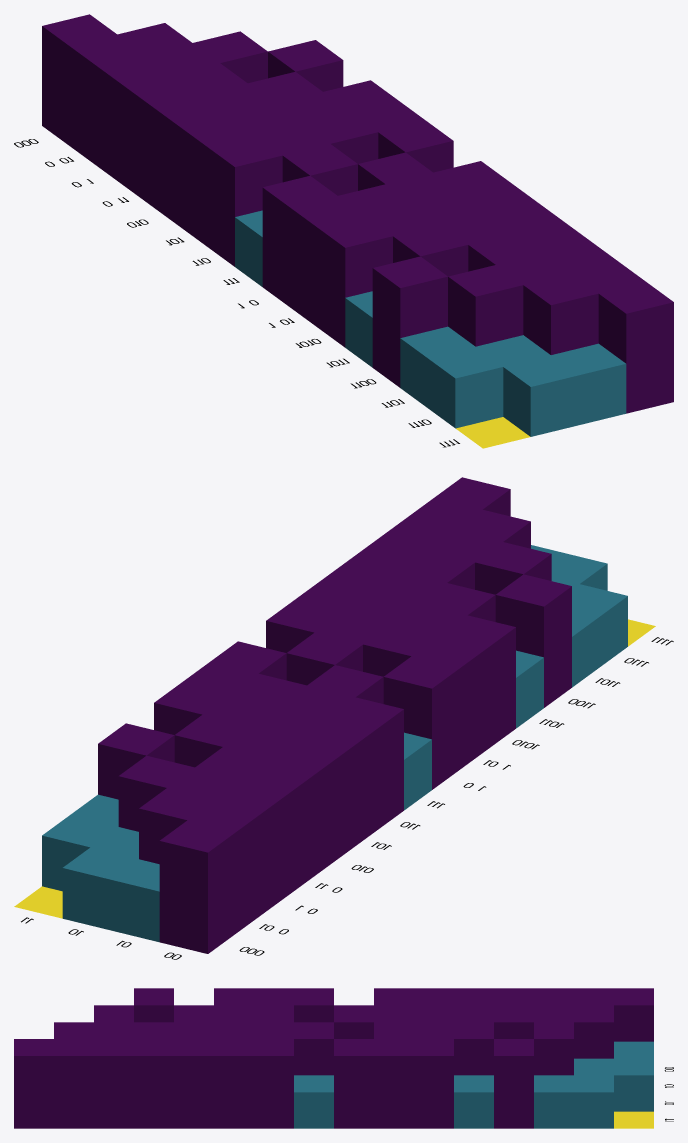
The picture shows the model from 3 angles, top to bottom: view 1: azimuth 30°, elevation 25°; view 2: azimuth 150°, elevation 25°; view 3: azimuth 270°, elevation 25°; orthographic projection. The views are drawn at different scales.
Parts seen in each view (by area): view 1: Object(4,16)[length_2], Object(1,13)[length_2], Object(1,11)[length_2], Object(1,7)[length_2], Object(2,14)[length_2], Object(2,16)[length_1], Object(1,15)[length_1], Object(3,15)[length_2], Object(1,2)[length_2], Object(1,4)[length_2], Object(1,5)[length_2], Object(1,10)[length_2] (+40 smaller); view 2: Object(1,1)[length_2], Object(1,9)[length_2], Object(1,13)[length_2], Object(1,2)[length_2], Object(1,4)[length_2], Object(1,6)[length_2], Object(1,7)[length_2], Object(1,10)[length_2], Object(1,11)[length_2], Object(1,3)[length_2], Object(1,5)[length_2], Object(3,1)[length_1] (+43 smaller); view 3: Object(4,4)[length_2], Object(4,6)[length_2], Object(4,7)[length_2], Object(4,8)[length_2], Object(4,10)[length_2], Object(4,11)[length_2], Object(4,12)[length_2], Object(4,13)[length_2], Object(4,14)[length_2], Object(4,15)[length_2], Object(4,16)[length_2], Object(1,1)[length_2] (+40 smaller).
Part boxes in pixels (x1,y1,x2,y2): Object(4,16)[length_2]: (598,282,673,413); Object(1,13)[length_2]: (372,256,447,387); Object(1,11)[length_2]: (317,216,392,347); Object(1,7)[length_2]: (207,135,282,266); Object(2,14)[length_2]: (448,265,523,346); Object(2,16)[length_1]: (503,355,578,436); Object(1,15)[length_1]: (428,347,503,428); Object(3,15)[length_2]: (523,273,598,354); Object(1,2)[length_2]: (69,34,144,165); Object(1,4)[length_2]: (124,75,199,205); Object(1,5)[length_2]: (152,95,227,226); Object(1,10)[length_2]: (290,196,364,327); Object(1,1)[length_2]: (159,820,235,953); Object(1,9)[length_2]: (383,656,459,789); Object(1,13)[length_2]: (495,574,571,707); Object(1,2)[length_2]: (188,800,263,933); Object(1,4)[length_2]: (244,759,319,892); Object(1,6)[length_2]: (300,718,375,851); Object(1,7)[length_2]: (328,697,403,830); Object(1,10)[length_2]: (412,636,487,769); Object(1,11)[length_2]: (440,615,515,748); Object(1,3)[length_2]: (216,779,291,912); Object(1,5)[length_2]: (272,738,347,871); Object(3,1)[length_1]: (62,847,138,930); Object(4,4)[length_2]: (494,1039,533,1128); Object(4,6)[length_2]: (414,1039,453,1128); Object(4,7)[length_2]: (374,1039,413,1128); Object(4,8)[length_2]: (334,1039,373,1128); Object(4,10)[length_2]: (254,1039,293,1128); Object(4,11)[length_2]: (214,1039,253,1128); Object(4,12)[length_2]: (174,1039,213,1128); Object(4,13)[length_2]: (134,1039,173,1128); Object(4,14)[length_2]: (94,1039,133,1128); Object(4,15)[length_2]: (54,1039,93,1128); Object(4,16)[length_2]: (14,1039,53,1128); Object(1,1)[length_2]: (614,988,653,1041).
Size of the model in its own units: 4.84 by 2 by 16.5.
